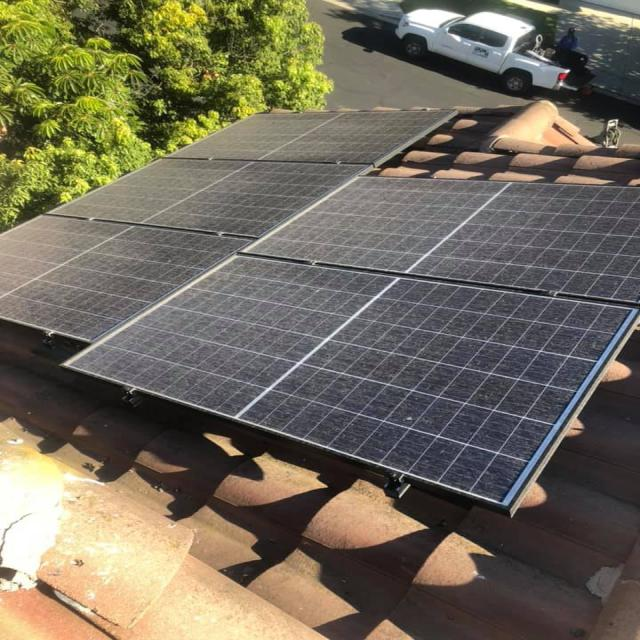dust-solar-panel: (3, 111, 638, 512)
